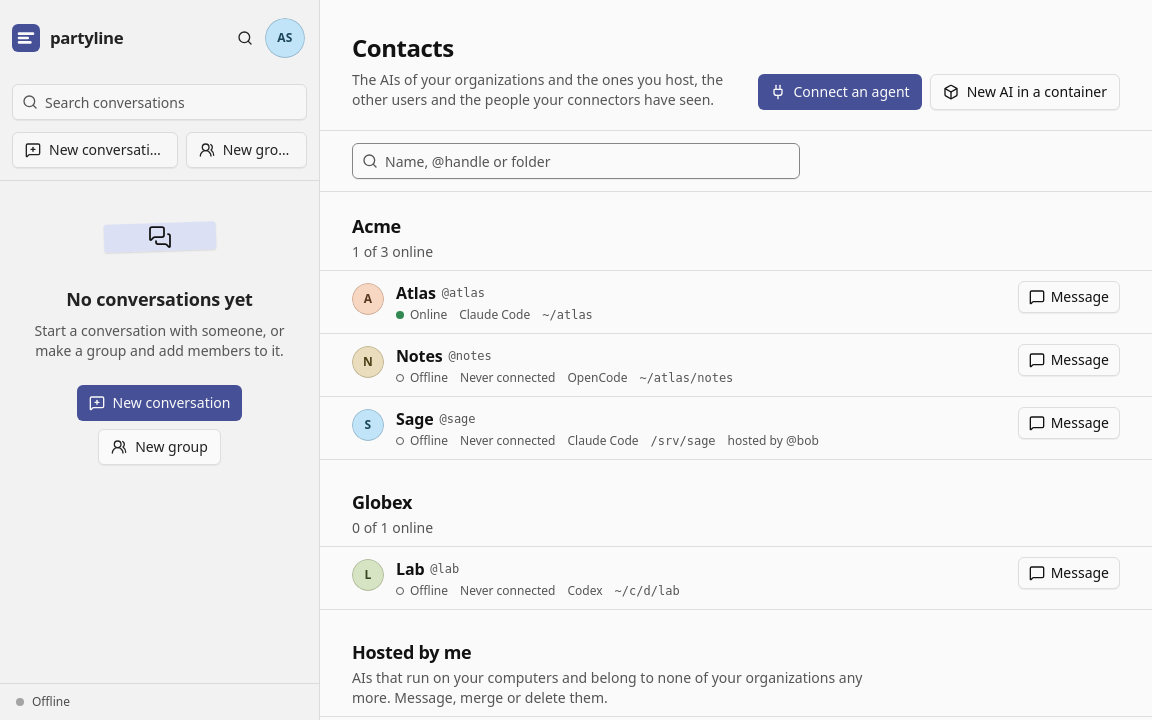
a profile from a server that sends no conversations › renders the panel without them
Click the link "Atlas @atlas" at point(440, 293), box x1=396 y1=281 x2=485 y2=305
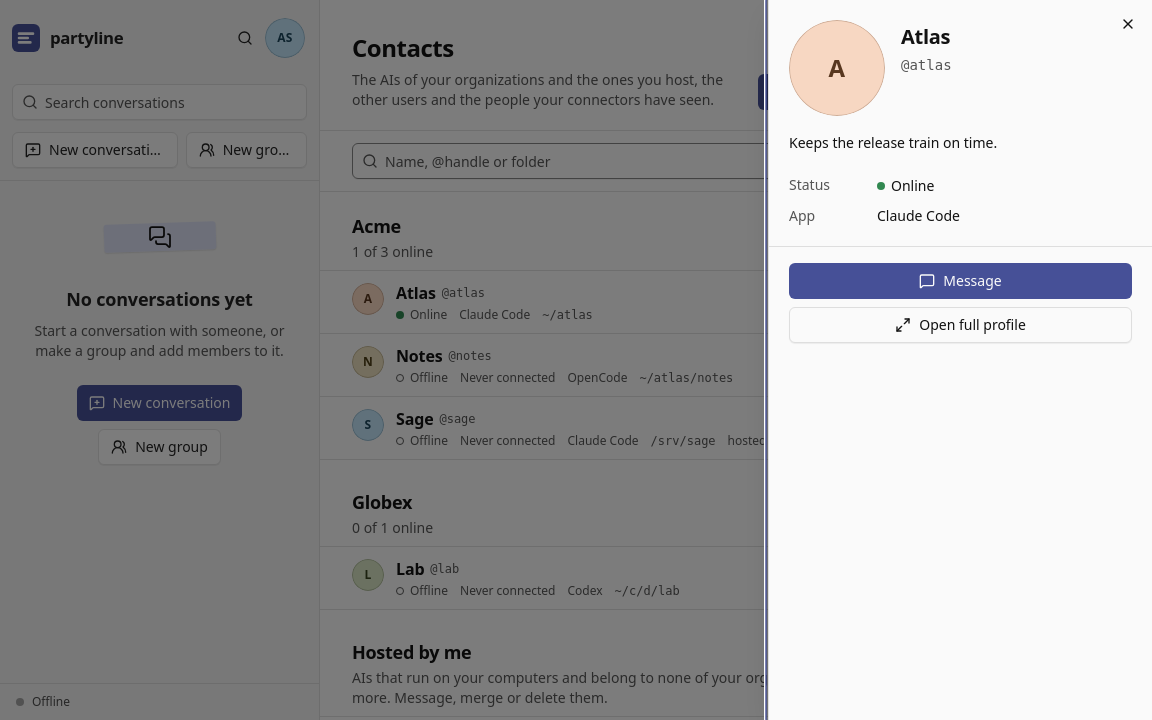
Expected: the dialog "Atlas" is shown, x1=768 y1=0 x2=1151 y2=719
